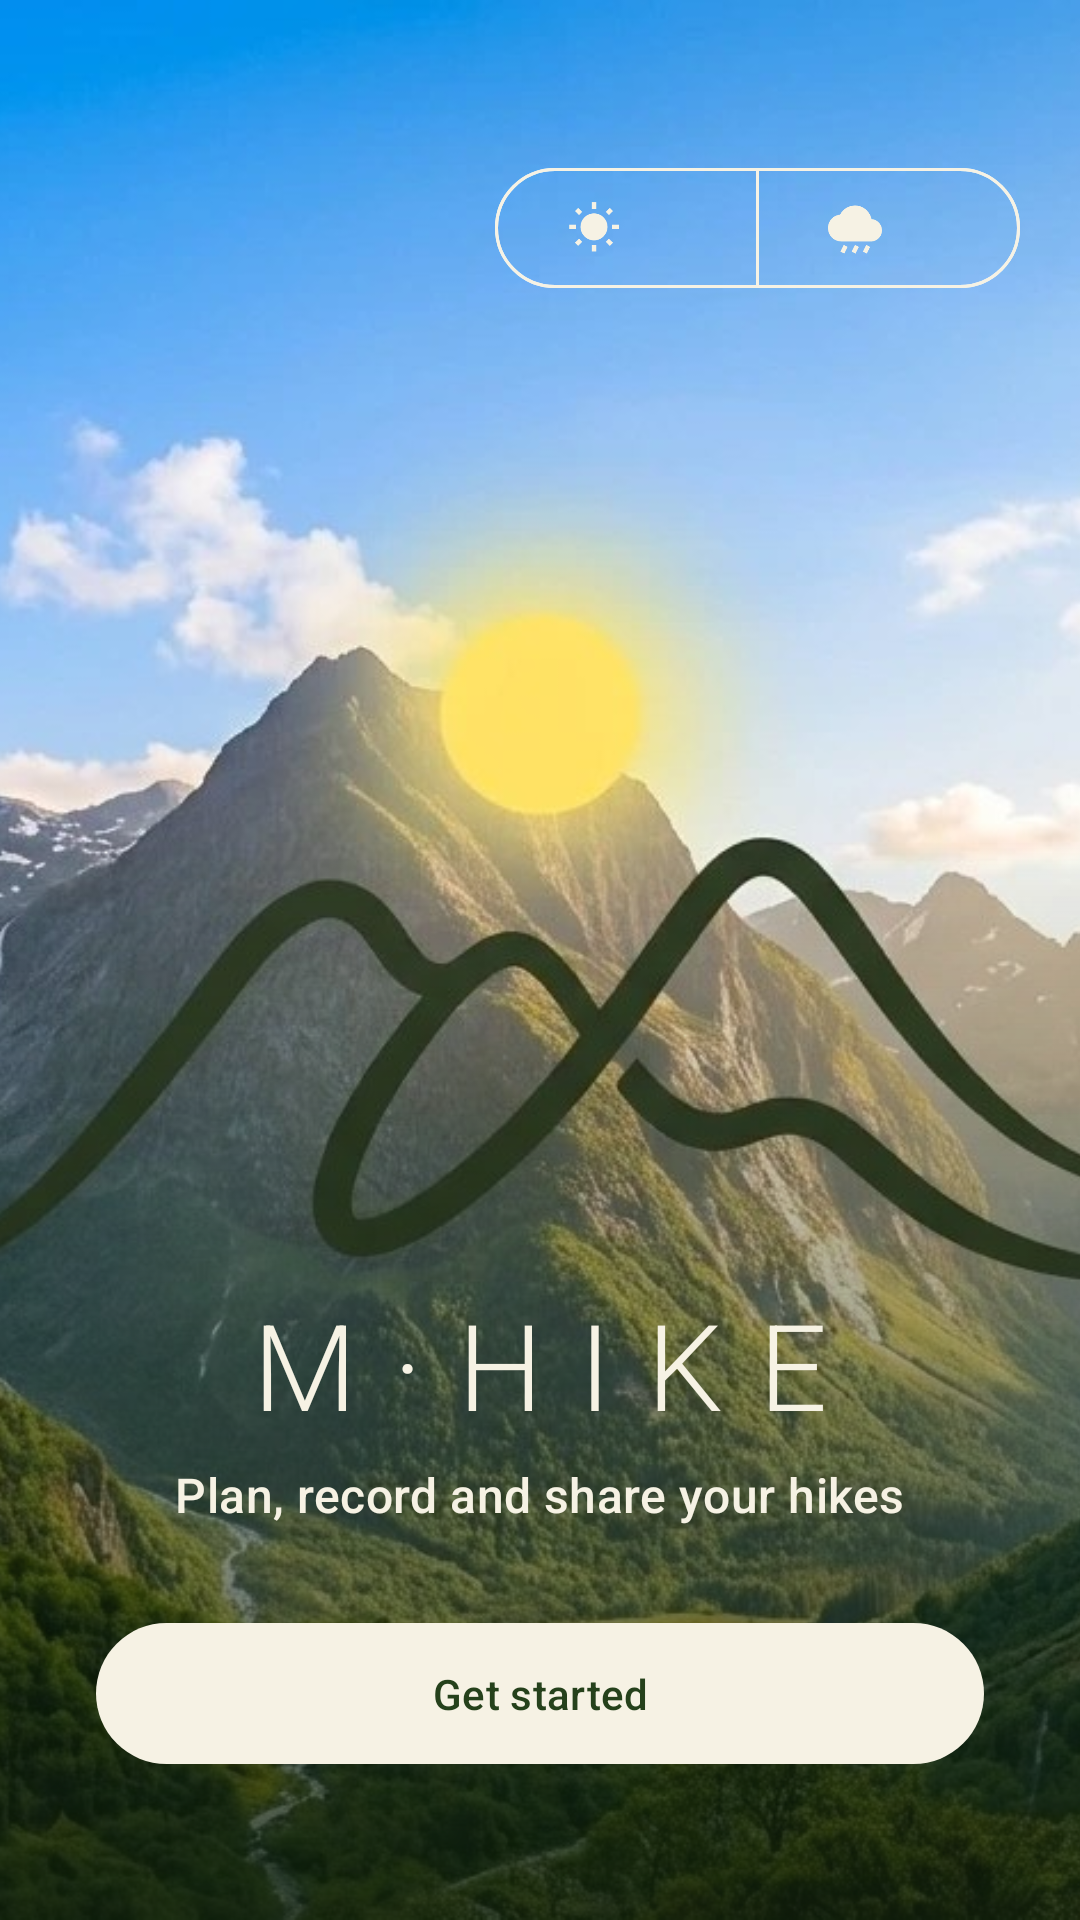

Where to tap for icons on this 1080×1920 app screen, as (x,y):
Rainy — dark theme: (888,228)
Sunny — light theme: (627,222)
